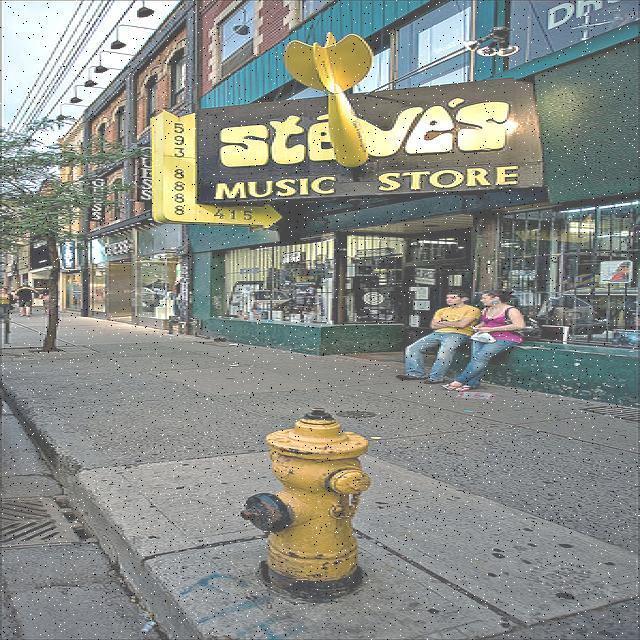fire_hydrant: (238, 406, 372, 599)
